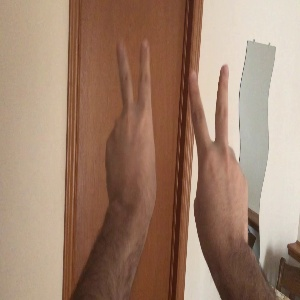hand: (187, 65, 249, 232), (104, 38, 157, 210)
